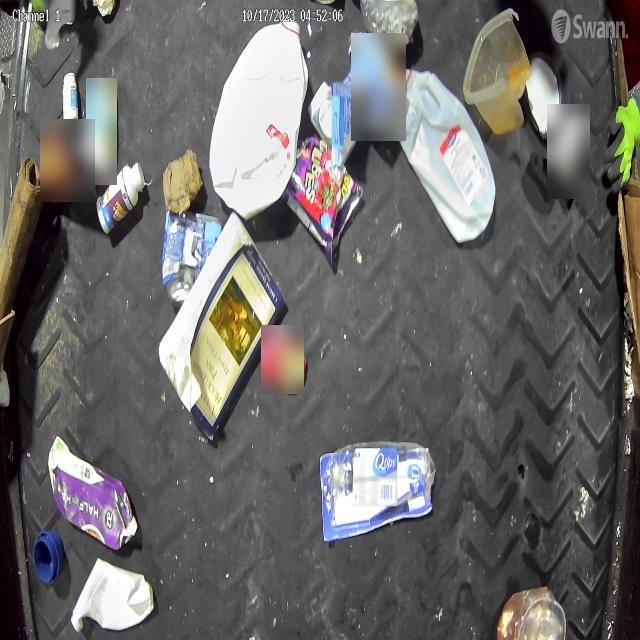milk_jug: (394, 62, 498, 248), (212, 19, 308, 217)
non_white_jug: (48, 434, 138, 552)
